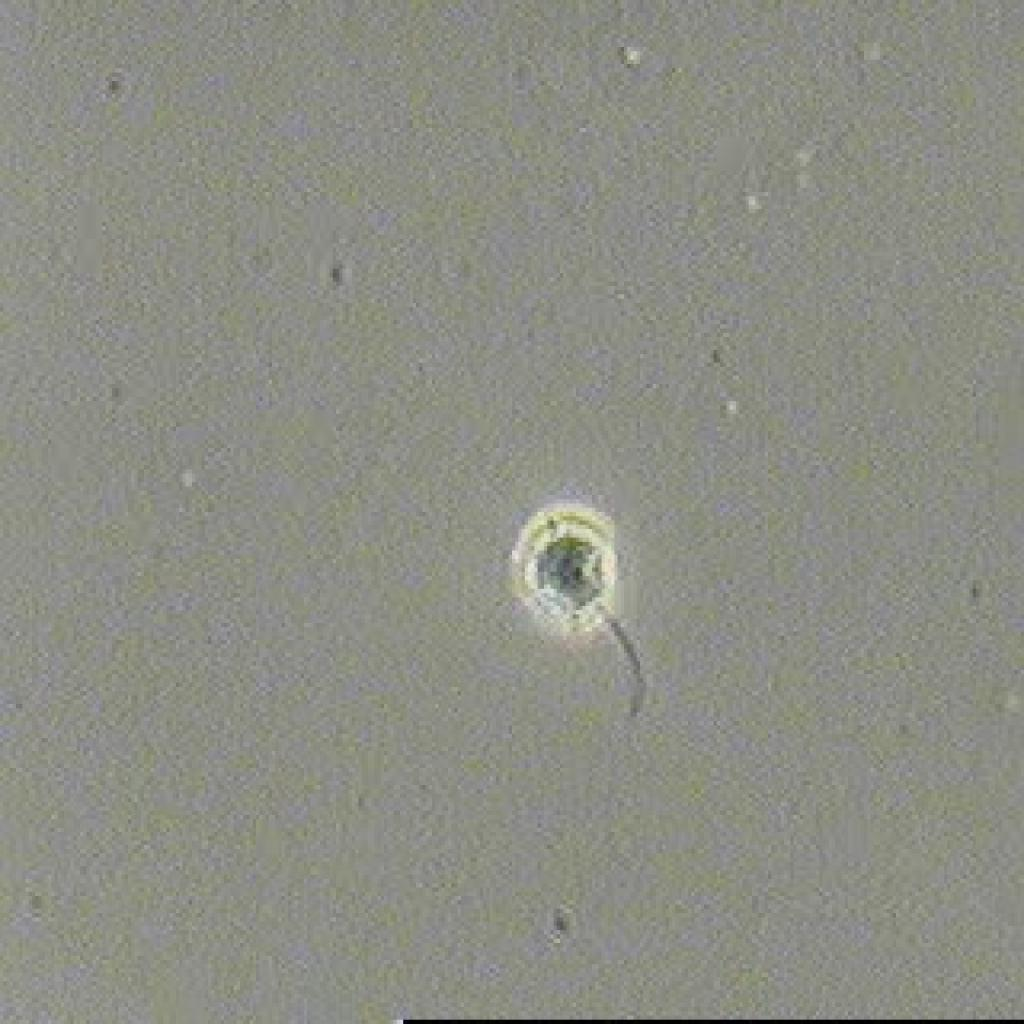Flagellates: (494, 499, 680, 751)
